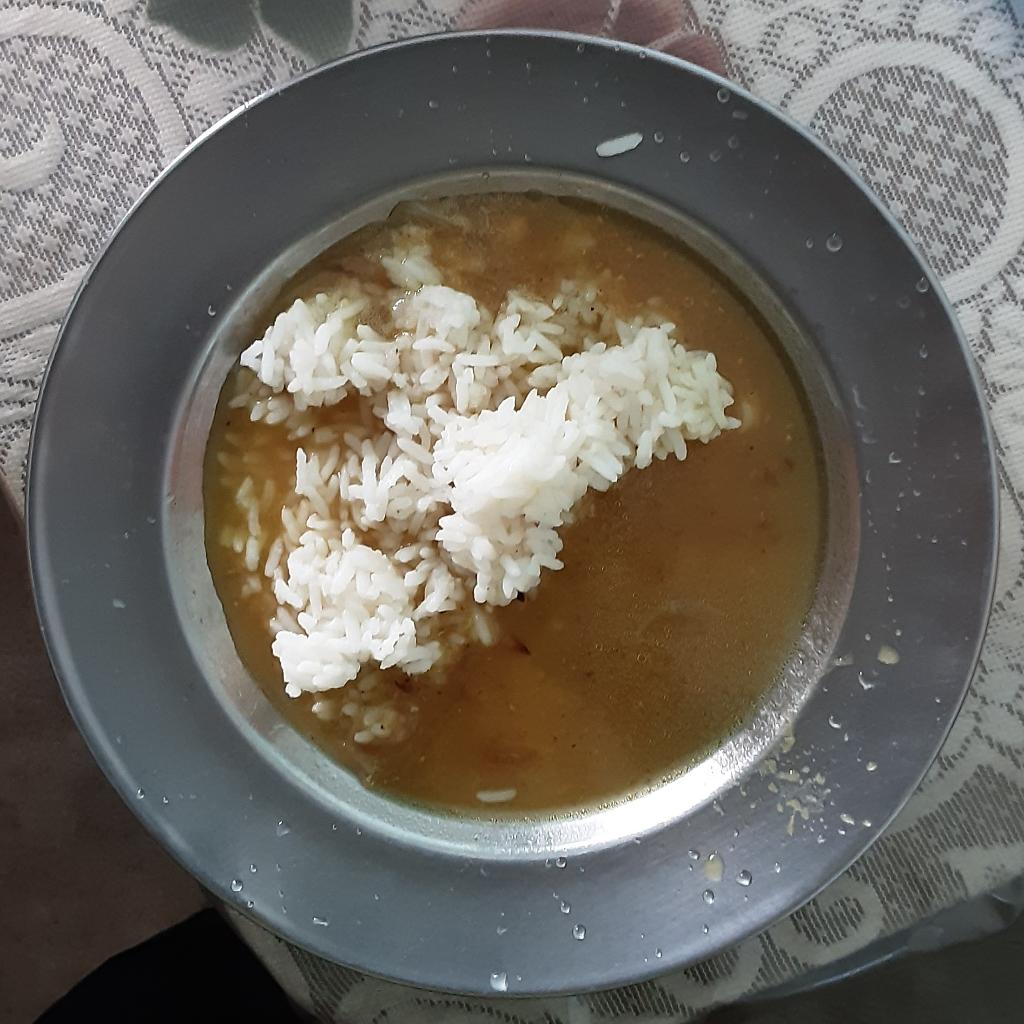daal: (199, 191, 827, 814)
rice: (220, 252, 741, 742)
